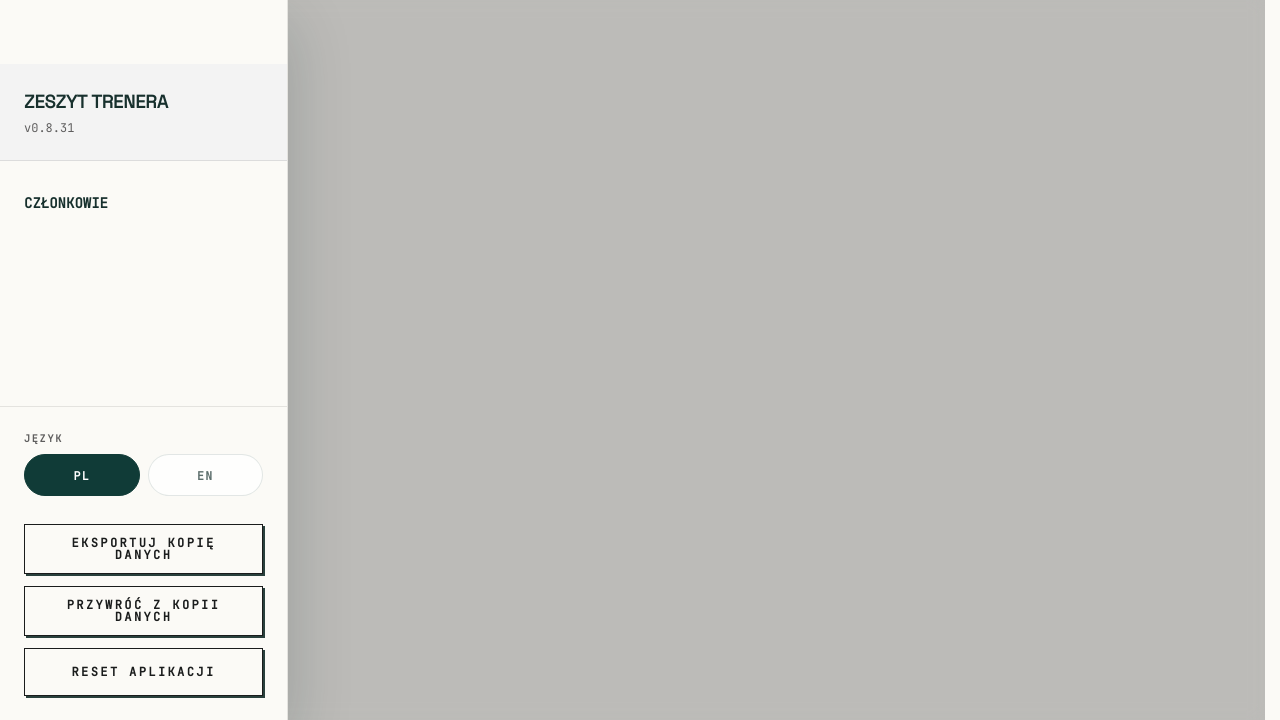
SidebarMenu › shows the floating backup error when backup export fails
The image size is (1280, 720).
Click the button with test id "export-backup-button" at (144, 549), box left=24, top=524, right=263, bottom=574
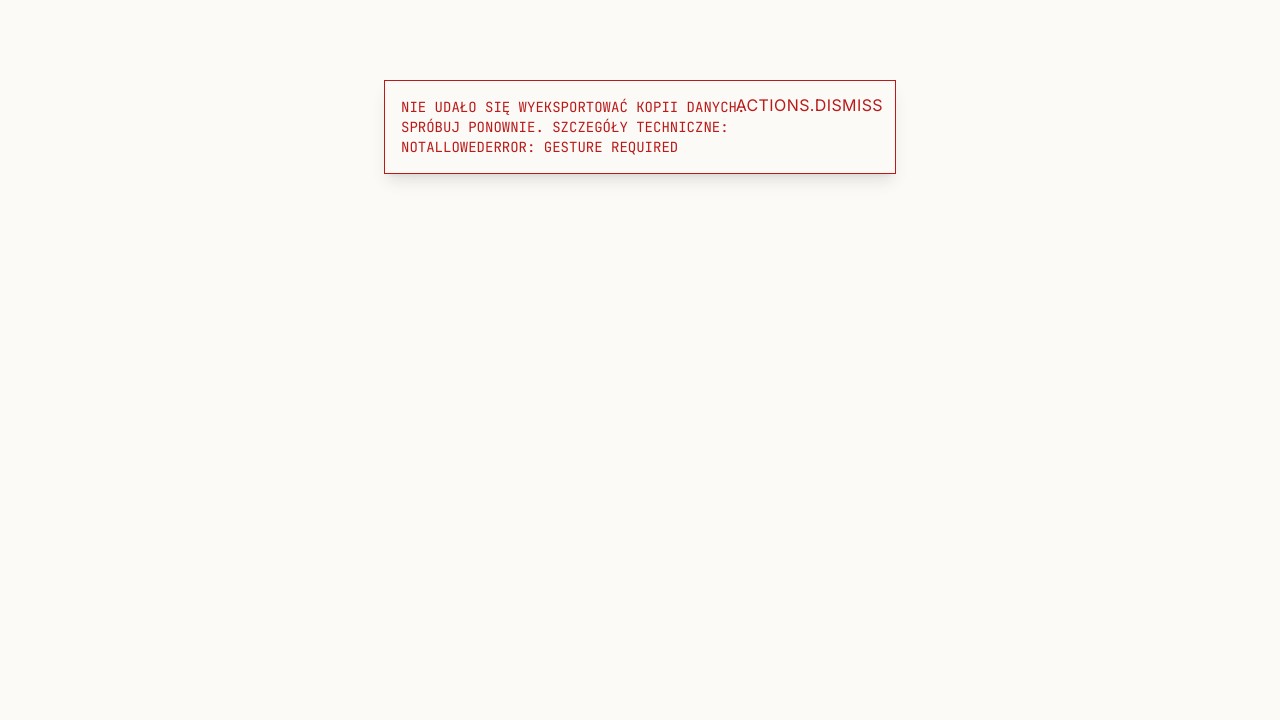
Expected: the text "Szczegóły techniczne: NotAllowedError: Gesture required" is shown, left=401, top=98, right=745, bottom=156
